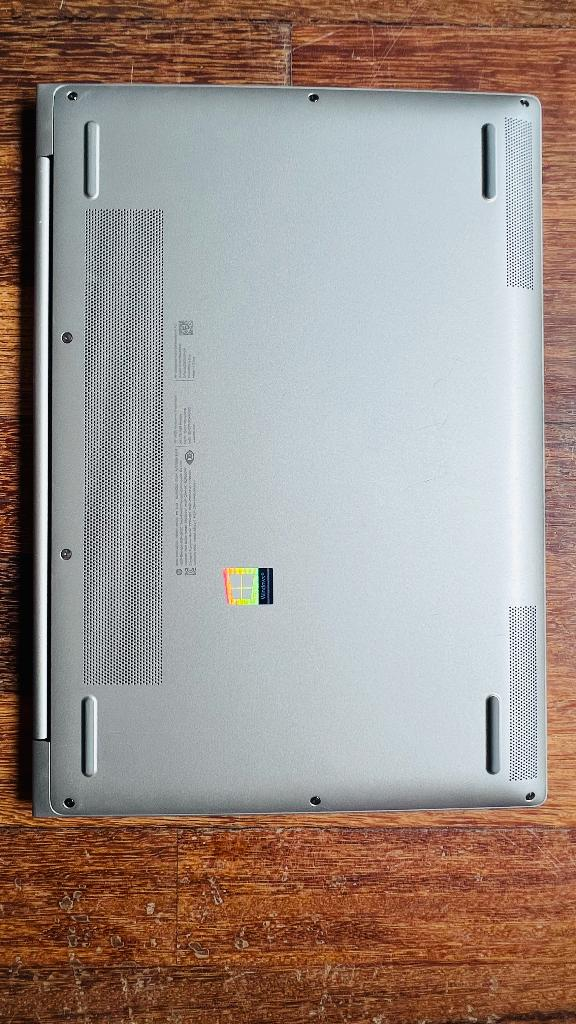scratch: (407, 469, 448, 488), (409, 417, 449, 433), (432, 366, 455, 388), (455, 296, 484, 310)
